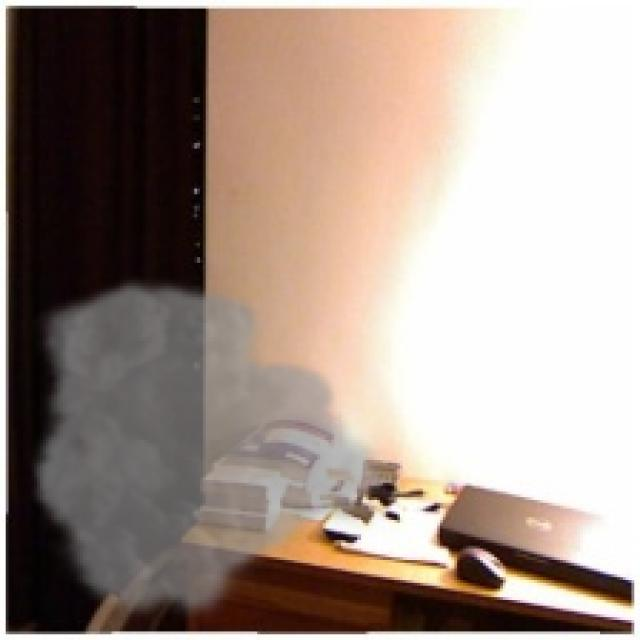smoke: (29, 274, 388, 626)
